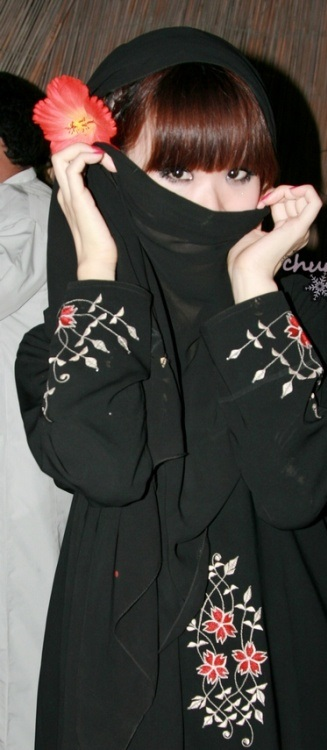face_mask: (135, 115, 262, 294)
